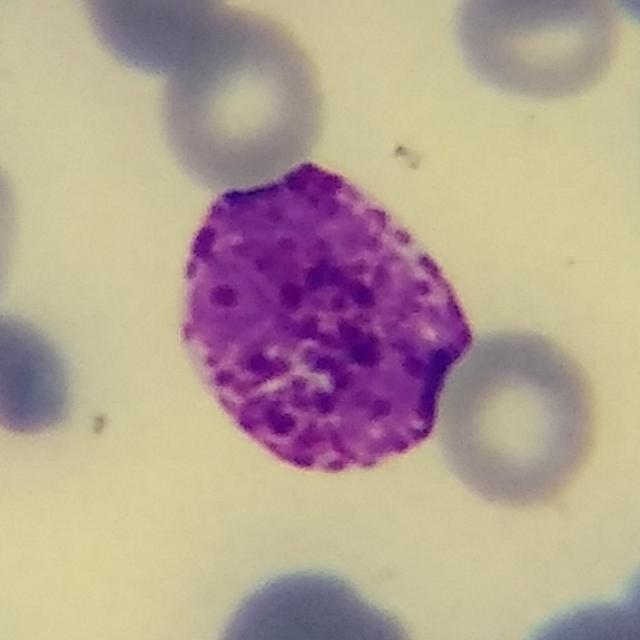Basophil: (151, 138, 493, 504)
Platelets: (596, 0, 640, 33)
RBC: (150, 1, 334, 190), (430, 321, 608, 514), (444, 0, 631, 107), (196, 557, 437, 640), (70, 0, 247, 78), (0, 302, 83, 444), (503, 590, 639, 640), (0, 117, 29, 322), (449, 0, 621, 23), (614, 535, 640, 640), (592, 0, 640, 36)
